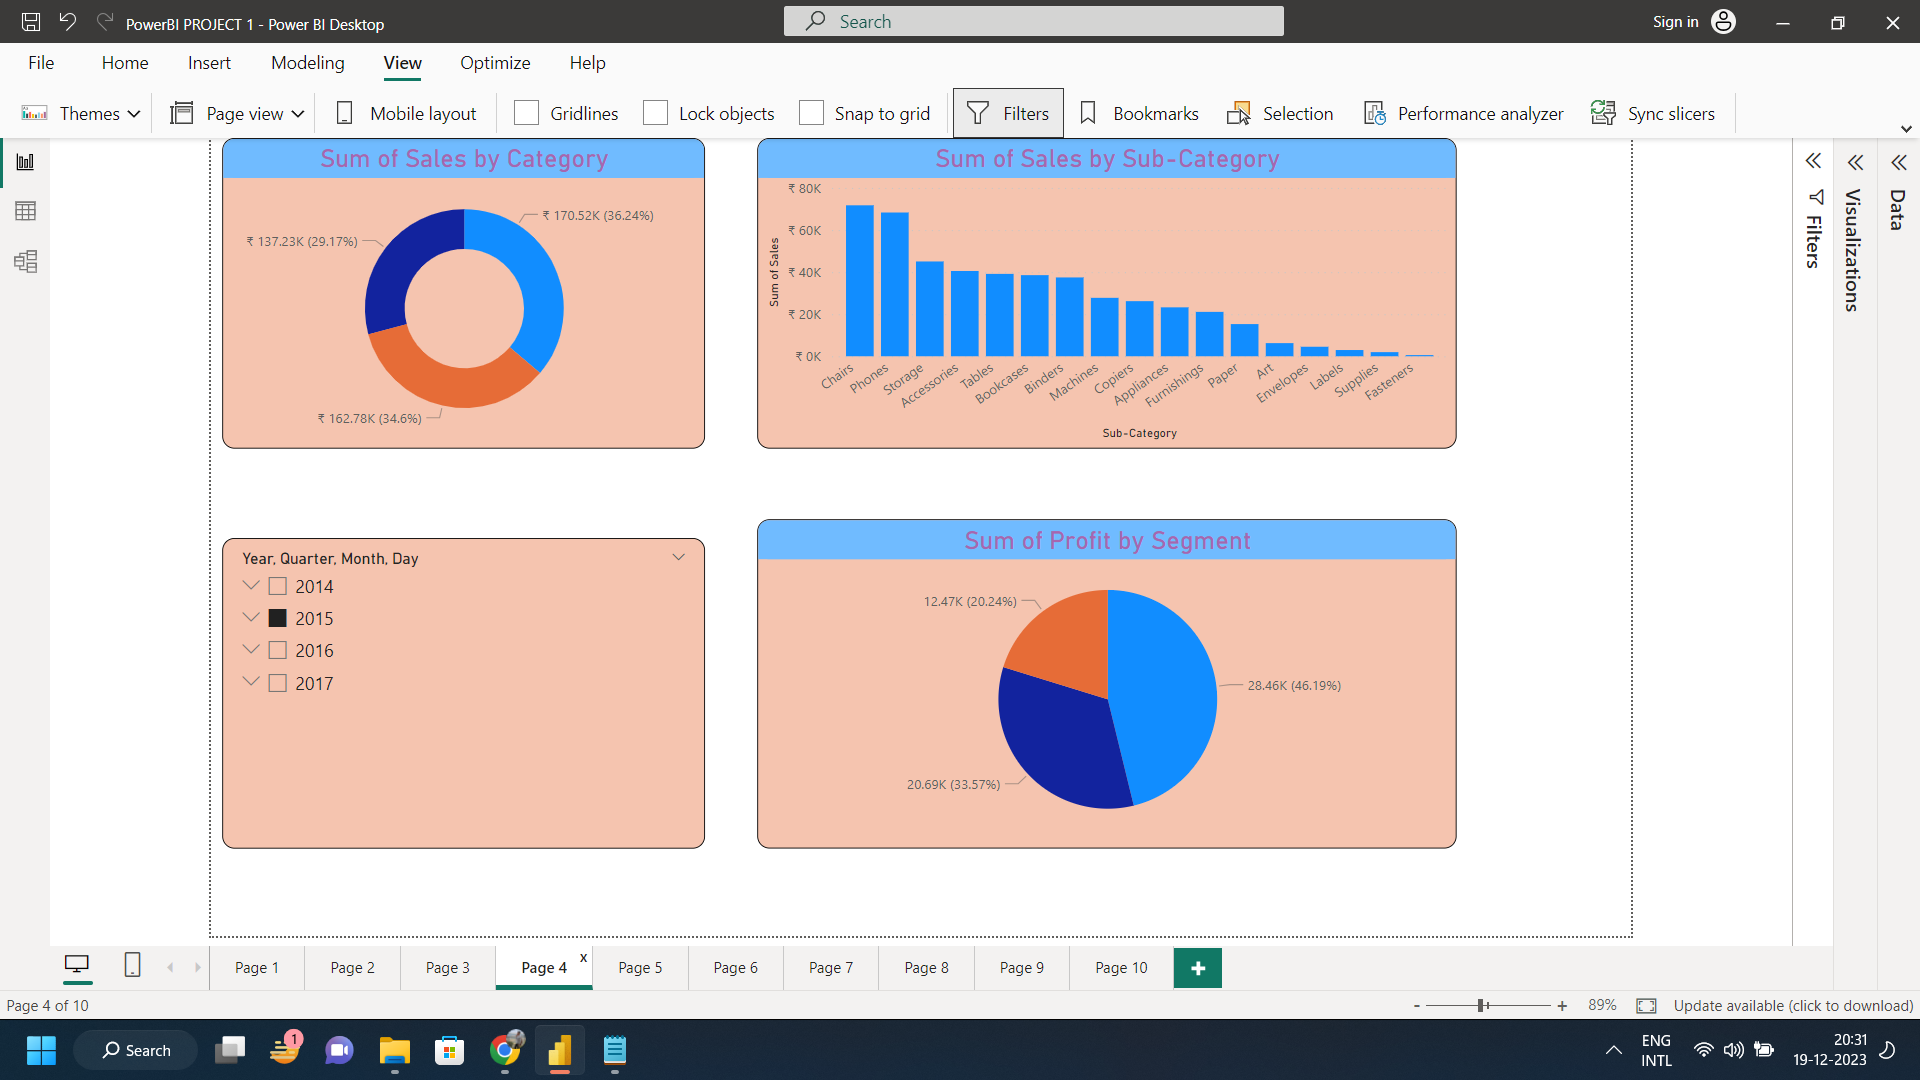

What the dashboard file says about the page in this screenshot:
{"tool":"powerbi","page":{"name":"Page 4","canvas":[1280,720],"ordinal":3},"visuals":[{"type":"donutChart","fields":{"Category":["Orders.Category"],"Y":["Sum(Orders.Sales)"]},"box":[9.8,0,435.2,279.9],"z":0},{"type":"clusteredColumnChart","fields":{"Y":["Sum(Orders.Sales)"],"Category":["Orders.Sub-Category"]},"box":[492.6,0,630.8,279.9],"z":1000},{"type":"slicer","fields":{"Values":["Orders.Order Date.Variation.Date Hierarchy.Year","Orders.Order Date.Variation.Date Hierarchy.Quarter","Orders.Order Date.Variation.Date Hierarchy.Month","Orders.Order Date.Variation.Date Hierarchy.Day"]},"box":[9.8,360.6,435.2,279.9],"z":2000},{"type":"pieChart","fields":{"Y":["Sum(Orders.Profit)"],"Category":["Orders.Segment"]},"box":[492.6,343.5,630.8,297],"z":3000}]}

Visuals, with their boxes on the page's 1280x720 design canvas (x1, y1, x2, y2). These are canvas units, not pixel positions in the 1920x1080 screenshot, which may show the page scaled, cropped or inside an application window:
donutChart - Orders.Category x Sum(Orders.Sales): [10,0,445,280]
clusteredColumnChart - Sum(Orders.Sales) x Orders.Sub-Category: [493,0,1123,280]
slicer - Orders.Order Date.Variation.Date Hierarchy.Year x Orders.Order Date.Variation.Date Hierarchy.Quarter: [10,361,445,640]
pieChart - Sum(Orders.Profit) x Orders.Segment: [493,344,1123,640]
